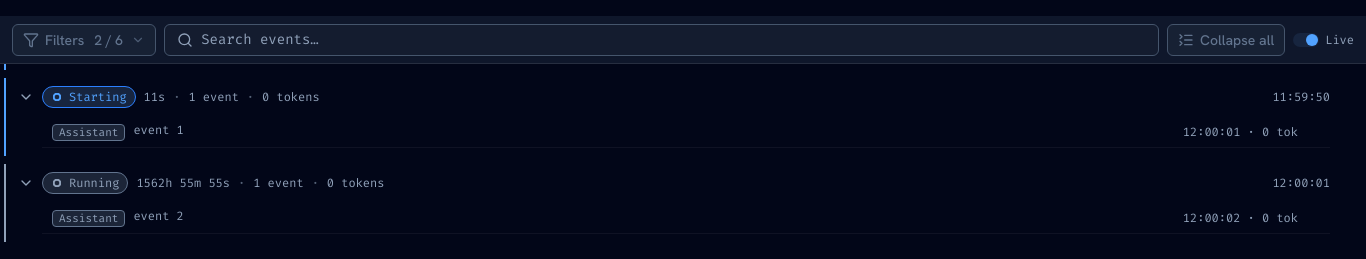
Test: Timeline › Collapse-all collapses every section in one click
Expected: the 1st element with test id "transcript-row" is shown, [42,116,1330,148]
Click the button "Collapse all" at (1226, 40), box [1167,24,1285,56]
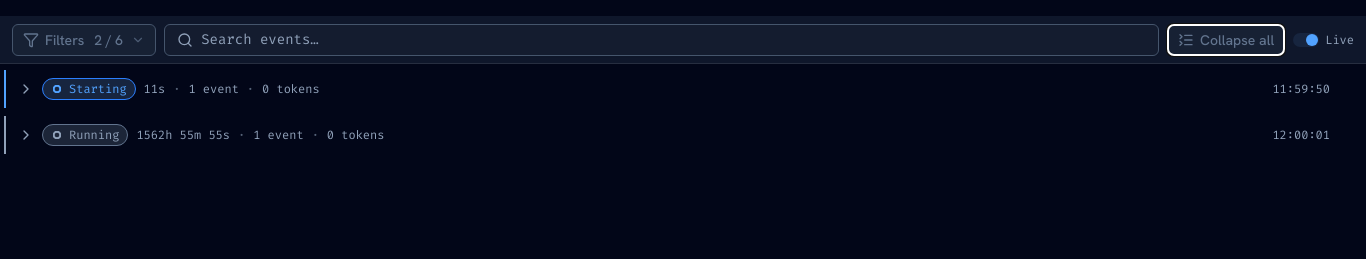
Expected: no elements with test id "transcript-row" are shown
Expected: the button with aria-label "toggle" is collapsed, [6,24,1342,62]
